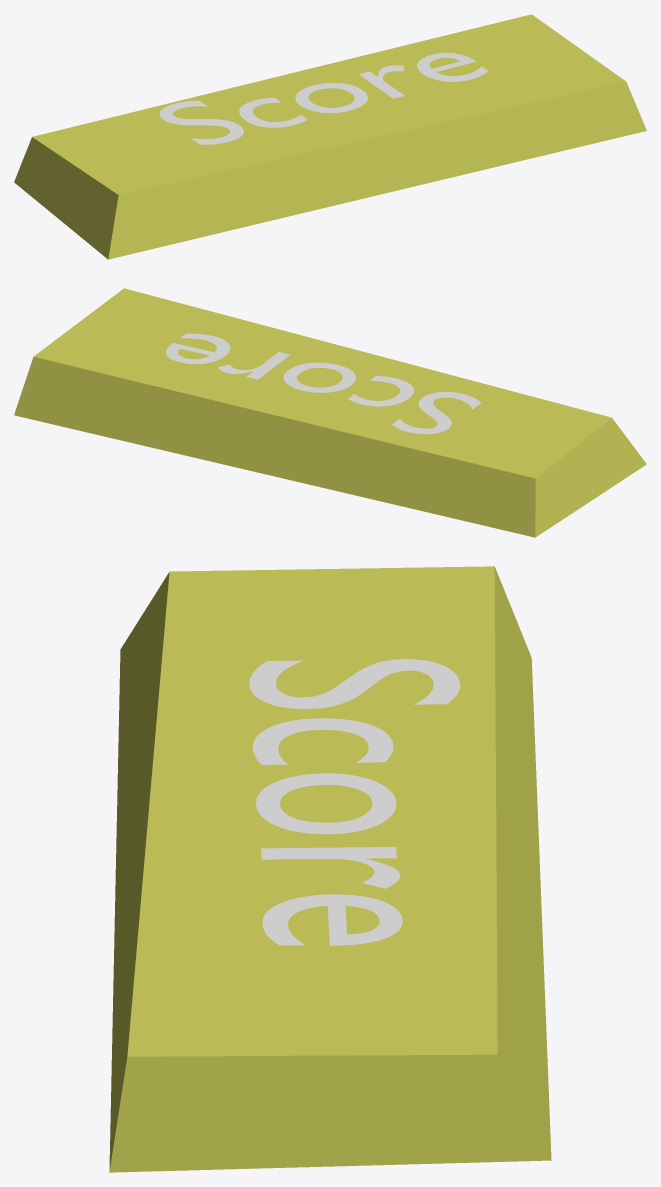
File: Button2.fbx
The picture shows the model from 3 angles, top to bottom: view 1: azimuth 30°, elevation 25°; view 2: azimuth 150°, elevation 25°; view 3: azimuth 270°, elevation 25°; orthographic projection. The views are drawn at different scales.
Parts seen in each view (by area): view 1: Cube, gh; view 2: Cube, gh; view 3: Cube, gh.
Part boxes in pixels (x1,y1,x2,y2): Cube: (14, 14, 646, 259); gh: (159, 52, 487, 144); Cube: (14, 288, 646, 537); gh: (166, 333, 481, 434); Cube: (109, 566, 551, 1172); gh: (249, 659, 460, 945).
Size of the model in its own units: 411 by 41.83 by 147.
